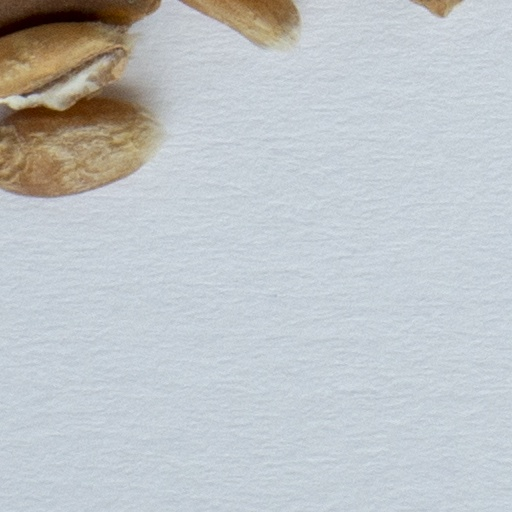Peel-poly: (0, 0, 163, 37)
Wheat-grain-damaged-poly: (0, 19, 144, 110)
